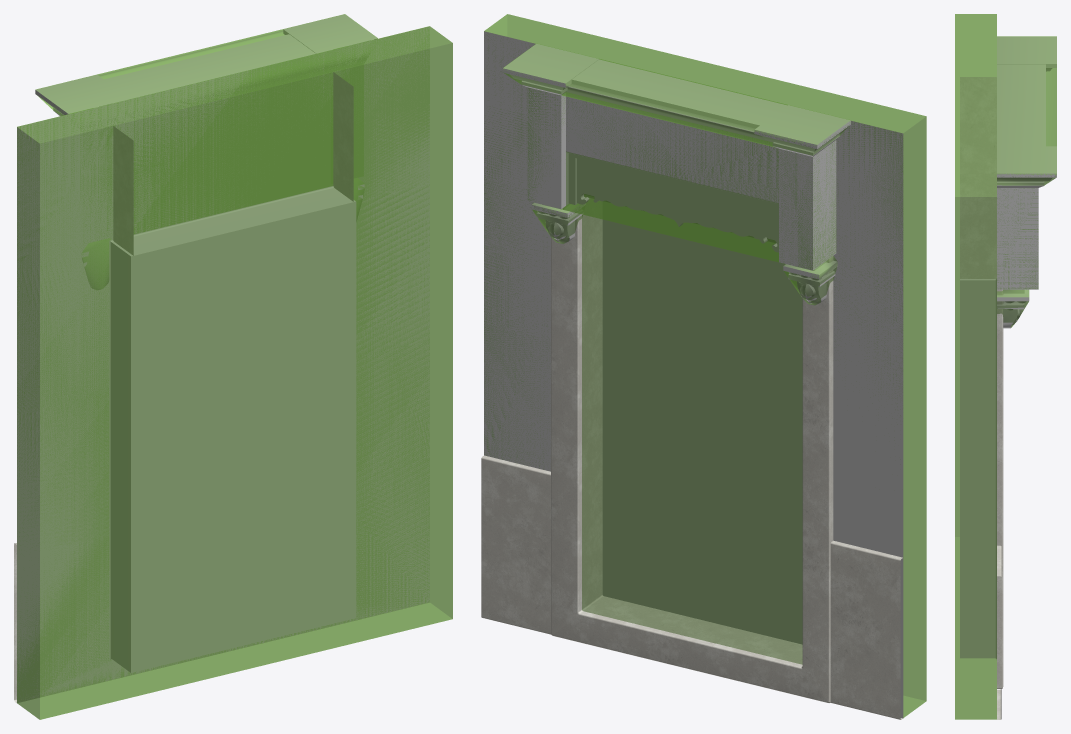
The model's file is F9_md_Wall_4x3_WL_01.fbx.
The picture shows the model from 3 angles, left to right: view 1: azimuth 30°, elevation 25°; view 2: azimuth 150°, elevation 25°; view 3: azimuth 270°, elevation 25°; orthographic projection. The views are drawn at different scales.
Visible parts, largest first — view 1: F9_md_Wall_4x3_WL_01_col_3, F9_md_Wall_4x3_WL_01_LOD0, F9_md_Wall_4x3_WL_01_col_4, F9_md_Wall_4x3_WL_01_col_5, F9_md_Wall_4x3_WL_01_col_6, F9_md_Wall_4x3_WL_01_col_2; view 2: F9_md_Wall_4x3_WL_01_LOD0, F9_md_Wall_4x3_WL_01_col_3, F9_md_Wall_4x3_WL_01_col_5, F9_md_Wall_4x3_WL_01_col_4, F9_md_Wall_4x3_WL_01_col_7, F9_md_Wall_4x3_WL_01_col_2, F9_md_Wall_4x3_WL_01_col_1, F9_md_Wall_4x3_WL_01_col_6; view 3: F9_md_Wall_4x3_WL_01_LOD0, F9_md_Wall_4x3_WL_01_col_3, F9_md_Wall_4x3_WL_01_col_4, F9_md_Wall_4x3_WL_01_col_1, F9_md_Wall_4x3_WL_01_col_6.
Boxes of the visible parts, box(x1,y1,x2,y2) form: F9_md_Wall_4x3_WL_01_col_3: box(17, 26, 452, 719); F9_md_Wall_4x3_WL_01_LOD0: box(14, 14, 429, 702); F9_md_Wall_4x3_WL_01_col_4: box(35, 14, 377, 115); F9_md_Wall_4x3_WL_01_col_5: box(134, 78, 331, 232); F9_md_Wall_4x3_WL_01_col_6: box(346, 64, 363, 177); F9_md_Wall_4x3_WL_01_col_2: box(82, 238, 110, 289); F9_md_Wall_4x3_WL_01_LOD0: box(481, 31, 903, 719); F9_md_Wall_4x3_WL_01_col_3: box(484, 14, 926, 717); F9_md_Wall_4x3_WL_01_col_5: box(563, 98, 784, 263); F9_md_Wall_4x3_WL_01_col_4: box(503, 43, 850, 155); F9_md_Wall_4x3_WL_01_col_7: box(779, 141, 836, 270); F9_md_Wall_4x3_WL_01_col_2: box(784, 256, 837, 305); F9_md_Wall_4x3_WL_01_col_1: box(532, 202, 582, 243); F9_md_Wall_4x3_WL_01_col_6: box(527, 87, 565, 200); F9_md_Wall_4x3_WL_01_LOD0: box(960, 36, 1056, 719); F9_md_Wall_4x3_WL_01_col_3: box(955, 14, 996, 719); F9_md_Wall_4x3_WL_01_col_4: box(997, 36, 1056, 185); F9_md_Wall_4x3_WL_01_col_1: box(997, 289, 1029, 327); F9_md_Wall_4x3_WL_01_col_6: box(997, 188, 1038, 288).
Size of what is drawn, in the model's own units: 300 by 400 by 70.65.
